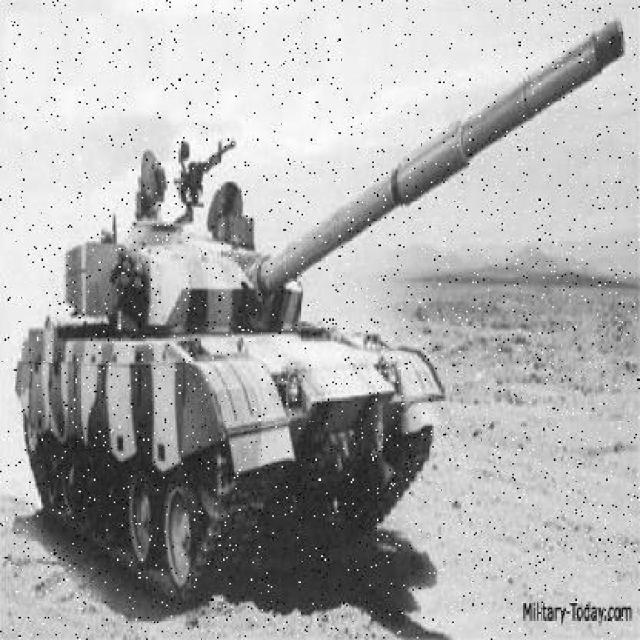Tank: (15, 16, 627, 604)
